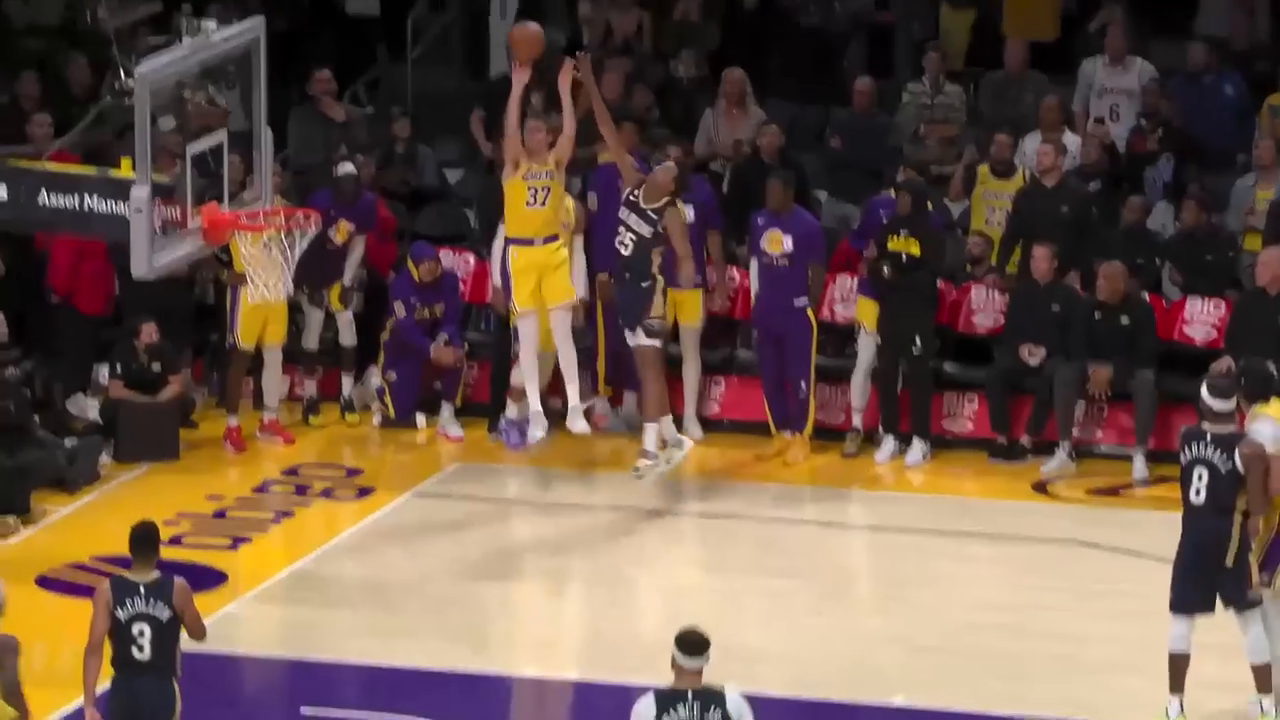ball: (505, 19, 555, 66)
net: (231, 203, 328, 304)
